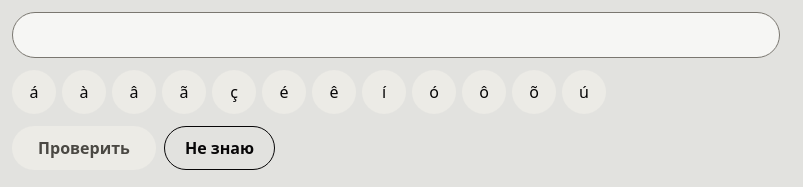
Scenario: TextAnswer › accent keys insert at the caret and keep focus in the field
Type "esta" into the field. click: (396, 35)
box: [12, 12, 780, 58]
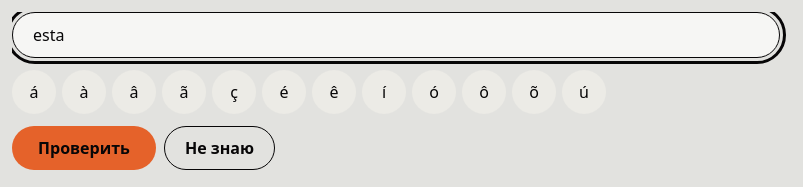
Click the button named "Вставить á". click: (34, 92)
box: [12, 70, 56, 114]
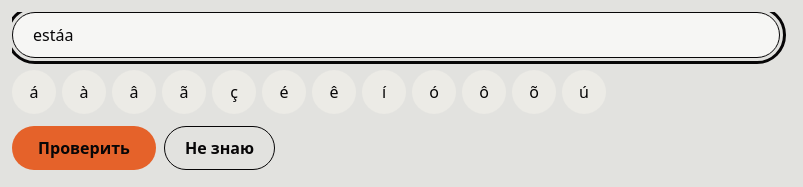
Check: the field holds "estáa", box [12, 12, 780, 58]
